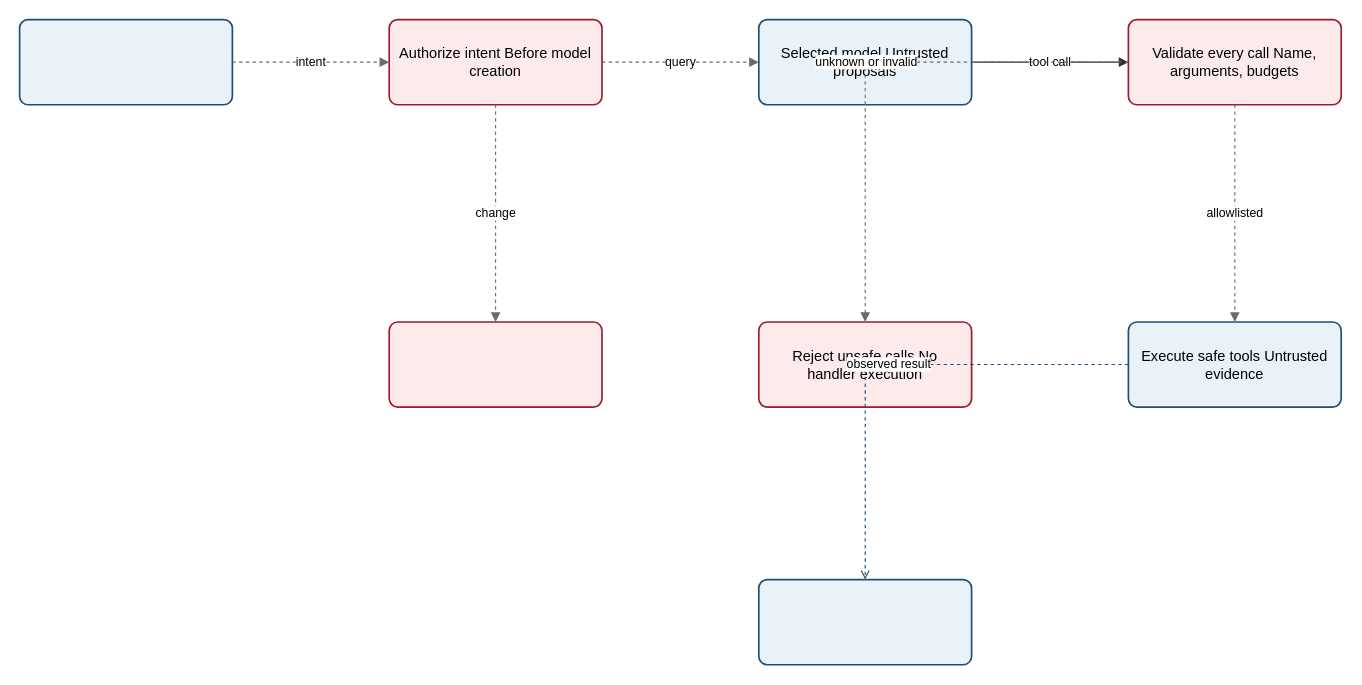
Some shapes in this 1362 by 685 pixel diagram are drawn without their labels. Here are the shapes that lost their labels. From the top down, the centre of each, then its label:
[125,61]: Explicit request Query or change intent
[495,364]: Policy stop Zero model invocations
[864,621]: Return bounded result Keep tool errors visible
